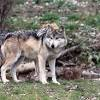Lobo: (5, 23, 76, 87)
